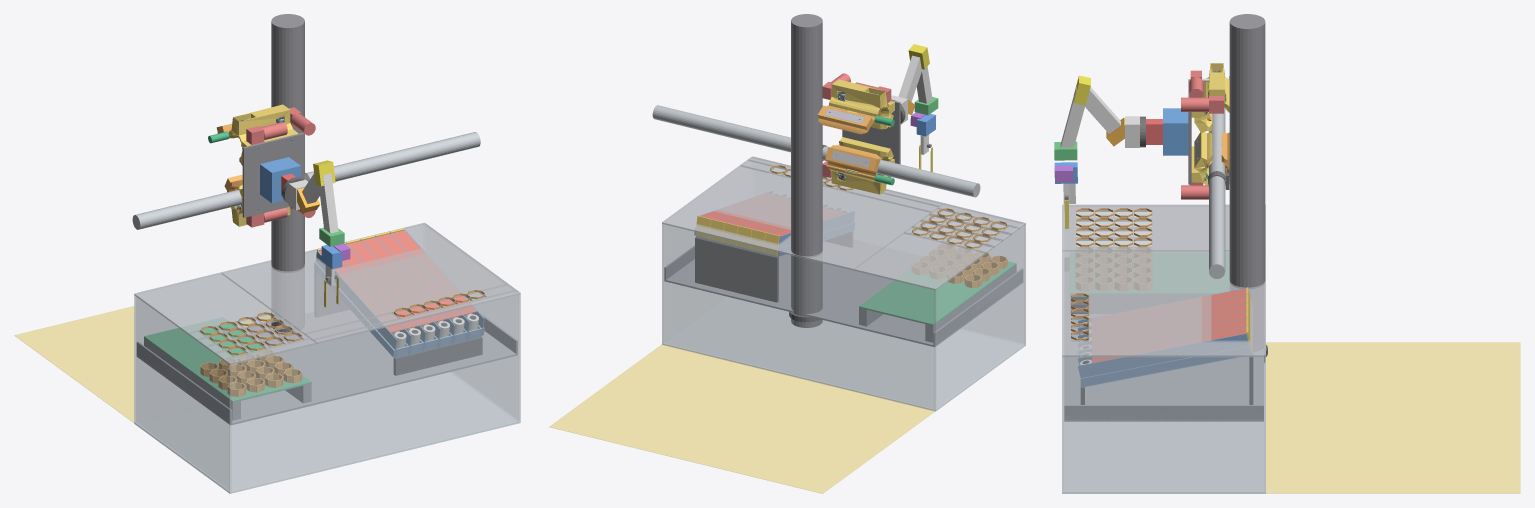
Rendered from sim-pod-grab-v1.glb.
3 views of the same model, side by side, from view 1: azimuth 30°, elevation 25°; view 2: azimuth 150°, elevation 25°; view 3: azimuth 270°, elevation 25° (orthographic). The views are drawn at different scales.
Parts seen in each view (by area): view 1: 2, 9, 1, 7, 4, 3, 13, 10, 0, 15, 8, 14 (+7 smaller); view 2: 2, 3, 9, 1, 4, 7, 12, 5, 10, 15, 0, 8 (+6 smaller); view 3: 3, 2, 9, 1, 4, 7, 13, 10, 8, 14, 15, 0 (+5 smaller).
Boxes of the visible parts, bbox=[...] form: 2: bbox=[134, 223, 520, 493]; 9: bbox=[134, 222, 520, 365]; 1: bbox=[134, 372, 520, 493]; 7: bbox=[136, 310, 517, 425]; 4: bbox=[242, 14, 304, 332]; 3: bbox=[14, 306, 270, 422]; 13: bbox=[318, 230, 476, 332]; 10: bbox=[200, 290, 484, 396]; 0: bbox=[132, 132, 480, 229]; 15: bbox=[144, 317, 311, 402]; 8: bbox=[136, 313, 517, 423]; 14: bbox=[314, 230, 484, 356]; 2: bbox=[662, 157, 1025, 411]; 3: bbox=[549, 344, 935, 493]; 9: bbox=[662, 156, 1025, 290]; 1: bbox=[662, 297, 1025, 411]; 4: bbox=[791, 14, 900, 327]; 7: bbox=[664, 240, 1023, 346]; 12: bbox=[695, 79, 894, 255]; 5: bbox=[695, 145, 852, 322]; 10: bbox=[770, 165, 1007, 287]; 15: bbox=[859, 253, 1016, 325]; 0: bbox=[652, 105, 980, 197]; 8: bbox=[664, 245, 1023, 345]; 3: bbox=[1266, 342, 1520, 493]; 2: bbox=[1062, 205, 1265, 493]; 9: bbox=[1062, 204, 1265, 357]; 1: bbox=[1062, 357, 1265, 493]; 4: bbox=[1188, 14, 1265, 363]; 7: bbox=[1064, 272, 1263, 421]; 13: bbox=[1092, 288, 1246, 362]; 10: bbox=[1071, 208, 1152, 340]; 8: bbox=[1064, 257, 1263, 419]; 14: bbox=[1078, 288, 1250, 386]; 15: bbox=[1070, 253, 1228, 294]; 0: bbox=[1209, 107, 1225, 278].
Bounding box in the file's own units: 820 × 860 × 915.
